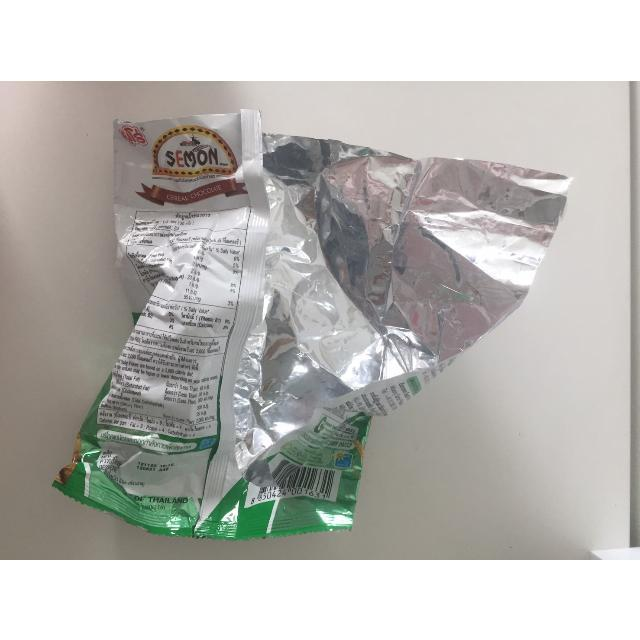Paquete de plastico: (50, 106, 571, 543)
